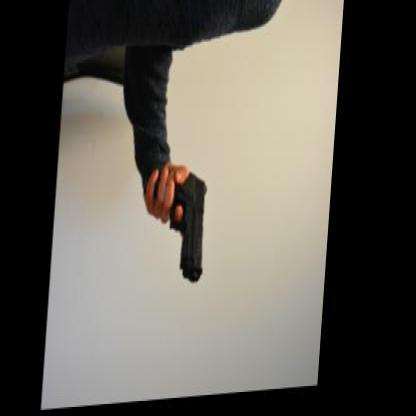pistol: (141, 157, 214, 288)
